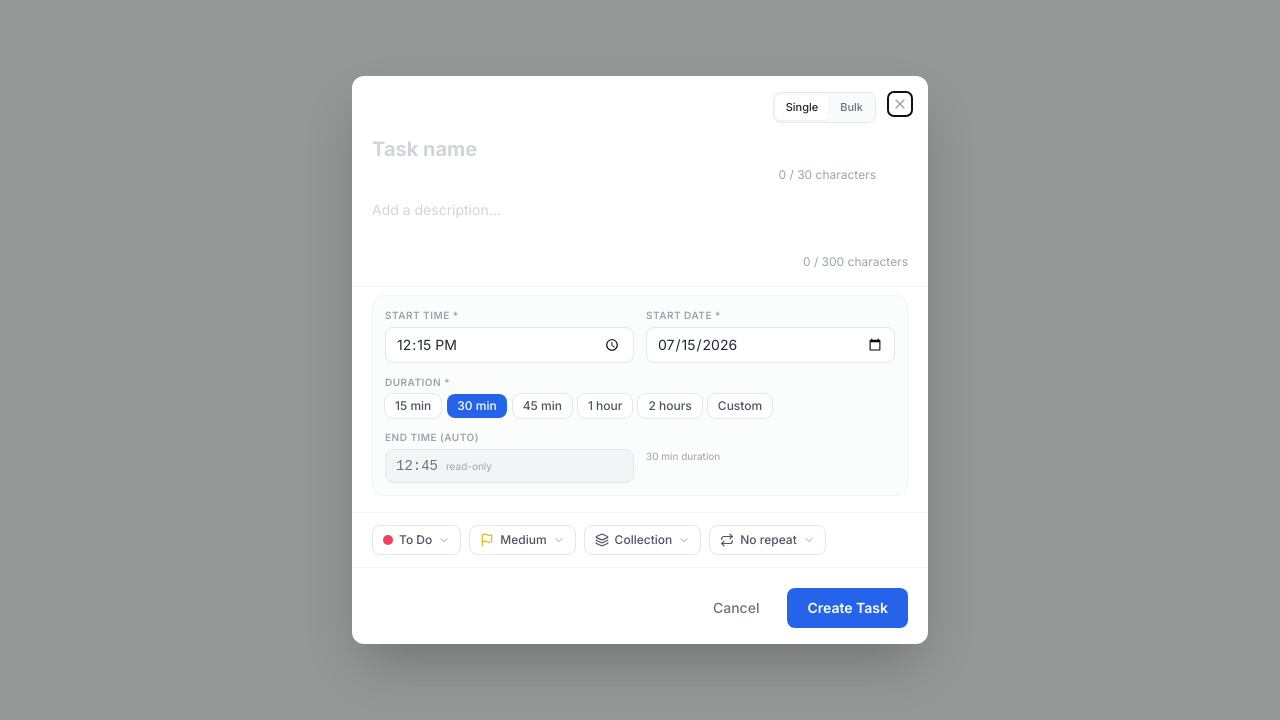
Scenario: TaskForm › selects priority and collection from chip menus
Click the button "Medium": [522, 540] box top-left (469, 525), bottom-right (576, 555)
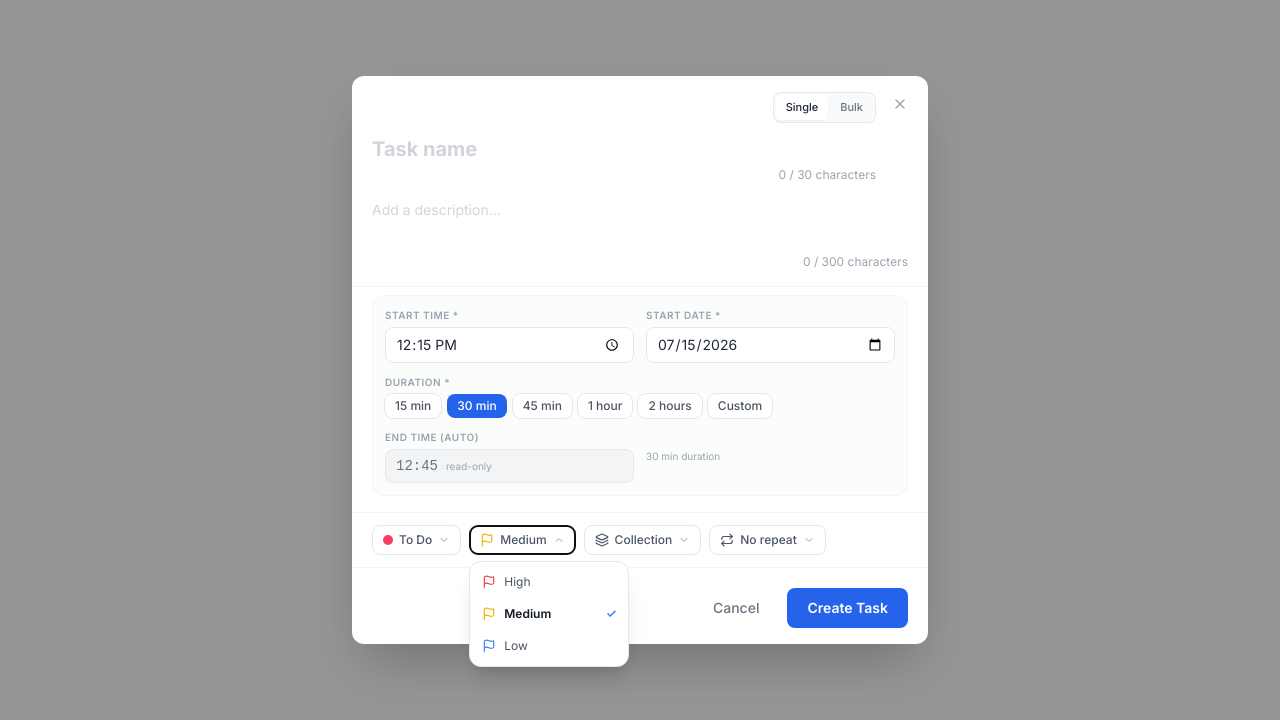
Click the button "High": [549, 582] box top-left (470, 566), bottom-right (628, 598)
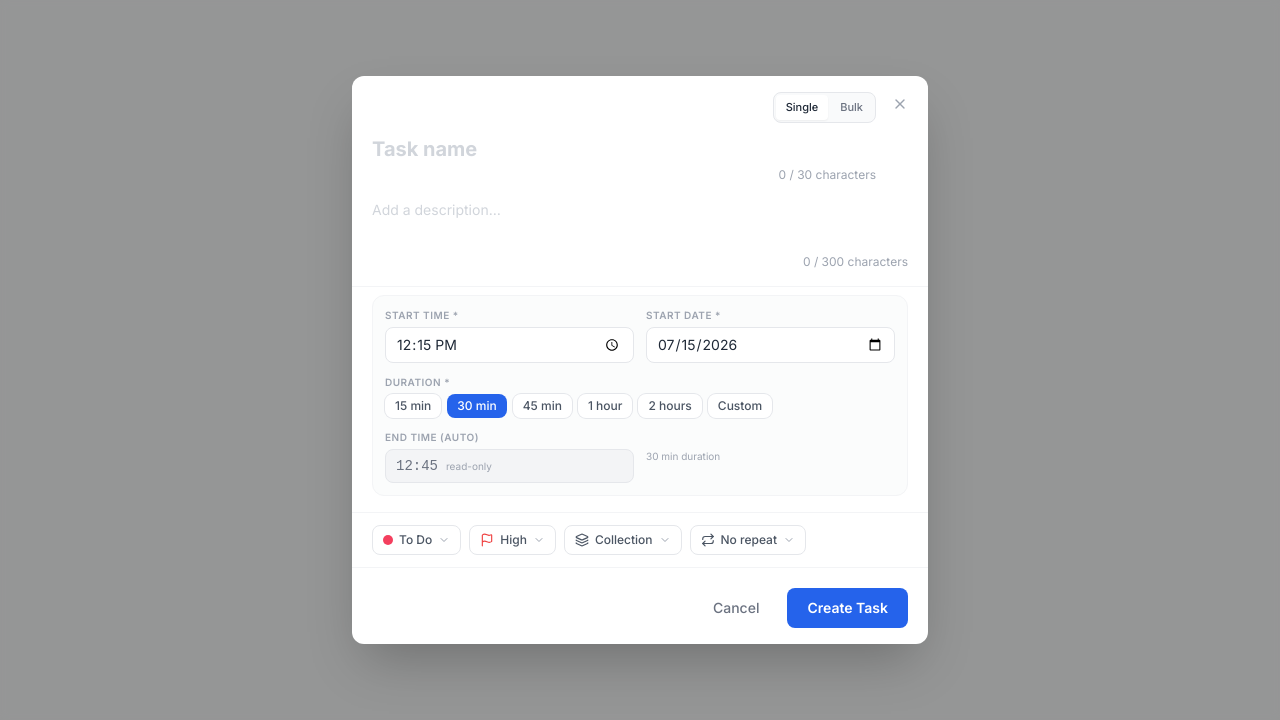
Click the button "Collection": [623, 540] box top-left (564, 525), bottom-right (682, 555)
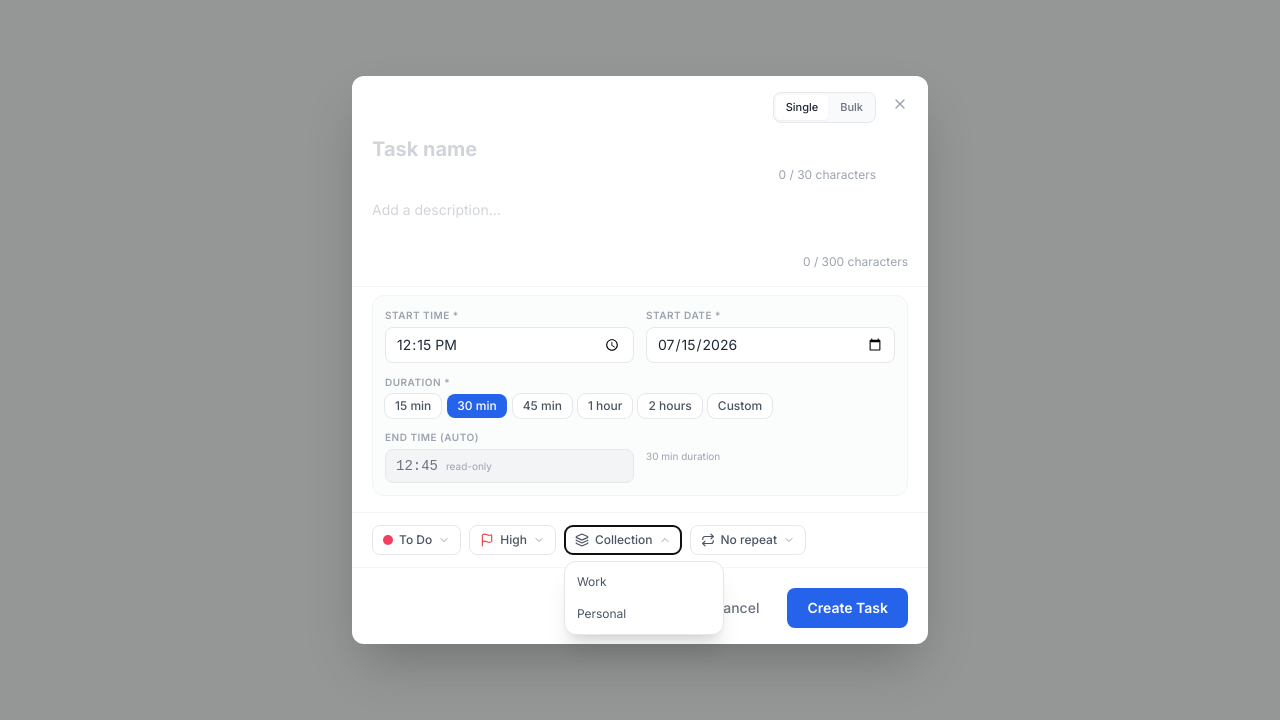
Click the button "Work": [644, 582] box top-left (565, 566), bottom-right (723, 598)
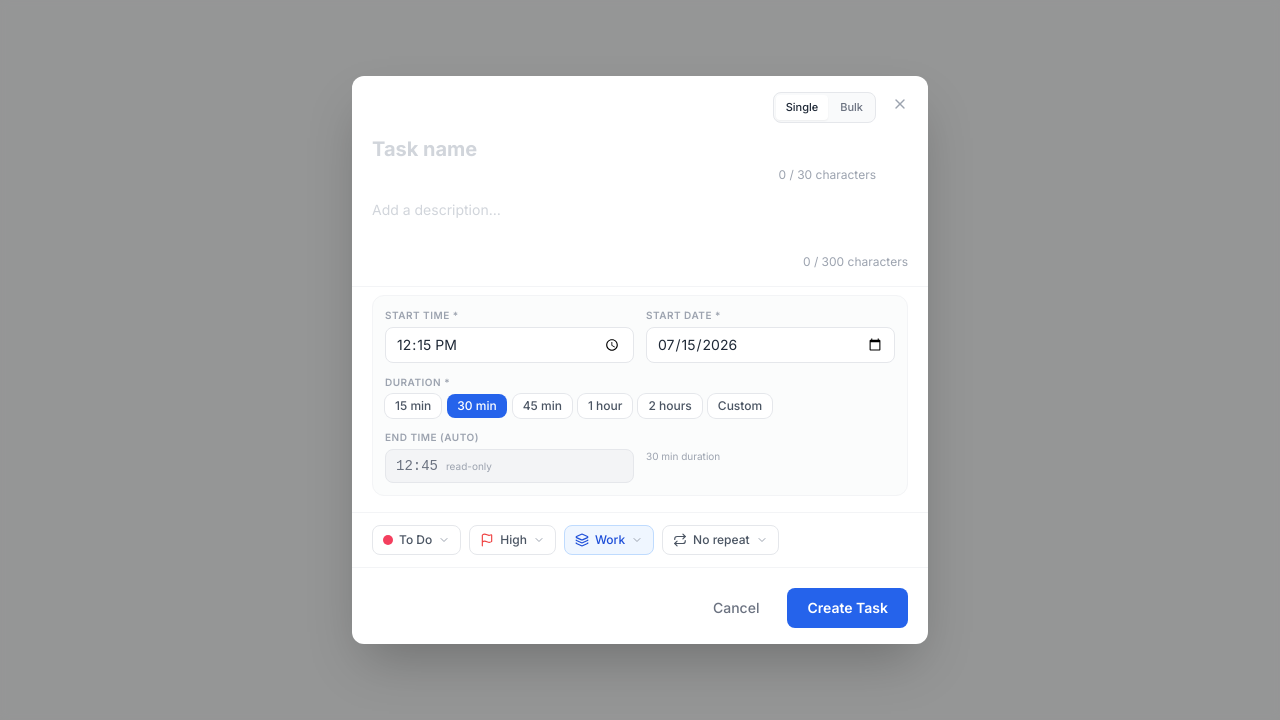
Result: the button "High" is shown at top-left (469, 525), bottom-right (556, 555)
Result: the button "Work" is shown at top-left (564, 525), bottom-right (654, 555)
